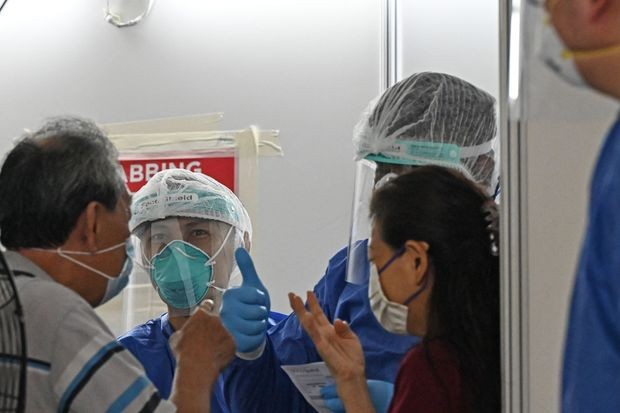Face_Shield: (344, 131, 464, 290)
Gloves: (218, 242, 275, 358), (320, 376, 399, 413)
with_mask: (533, 1, 604, 89), (150, 218, 216, 312), (365, 226, 411, 338), (93, 206, 139, 311)
